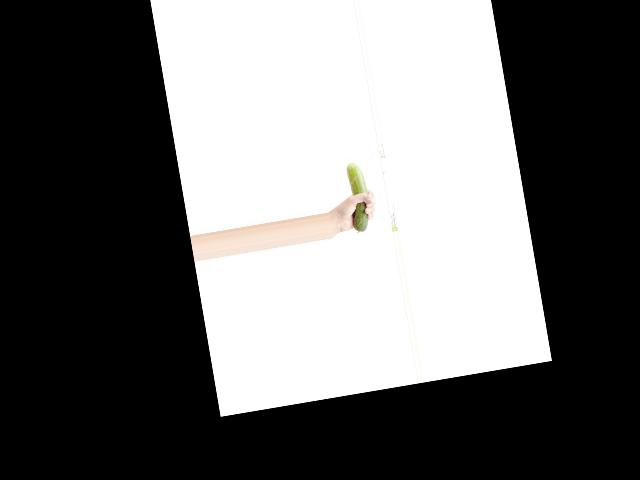cucumber: (343, 160, 374, 232)
